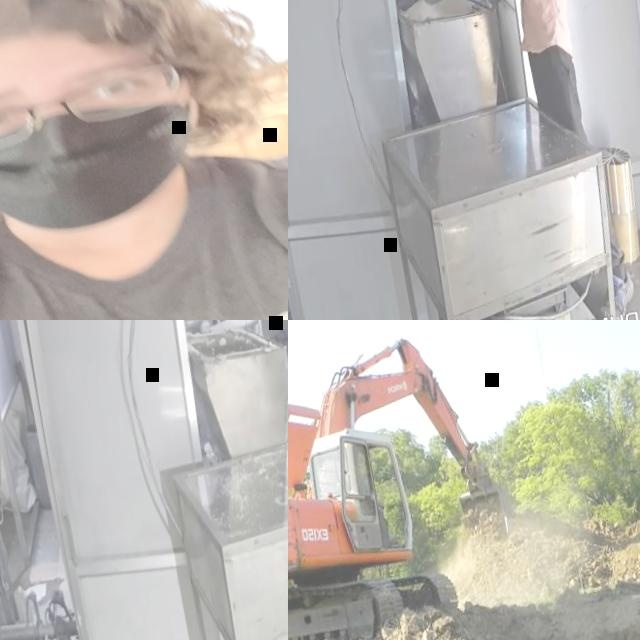Mask: (0, 88, 217, 250)
NO-Hardhat: (0, 0, 217, 106)
NO-Safety Vest: (0, 126, 288, 320), (493, 0, 583, 60)
Person: (0, 0, 288, 320), (419, 0, 640, 320), (354, 468, 398, 553)
machinery: (288, 322, 528, 640)
